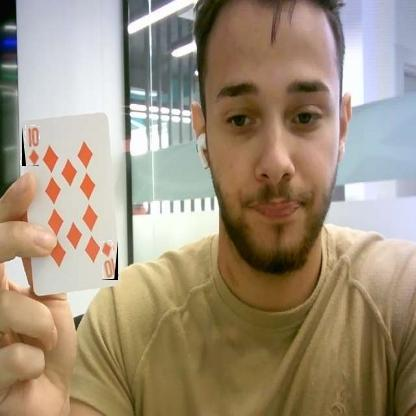10D: (22, 126, 39, 166), (102, 241, 118, 280)
